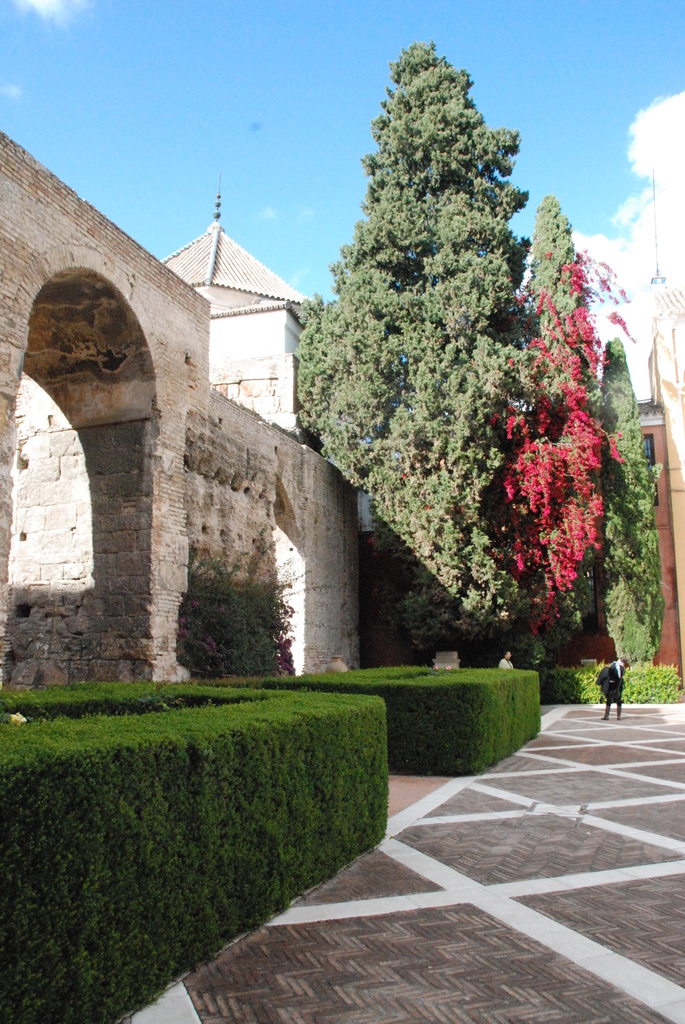Tree: (289, 33, 534, 672), (518, 194, 602, 659), (600, 336, 661, 670)
